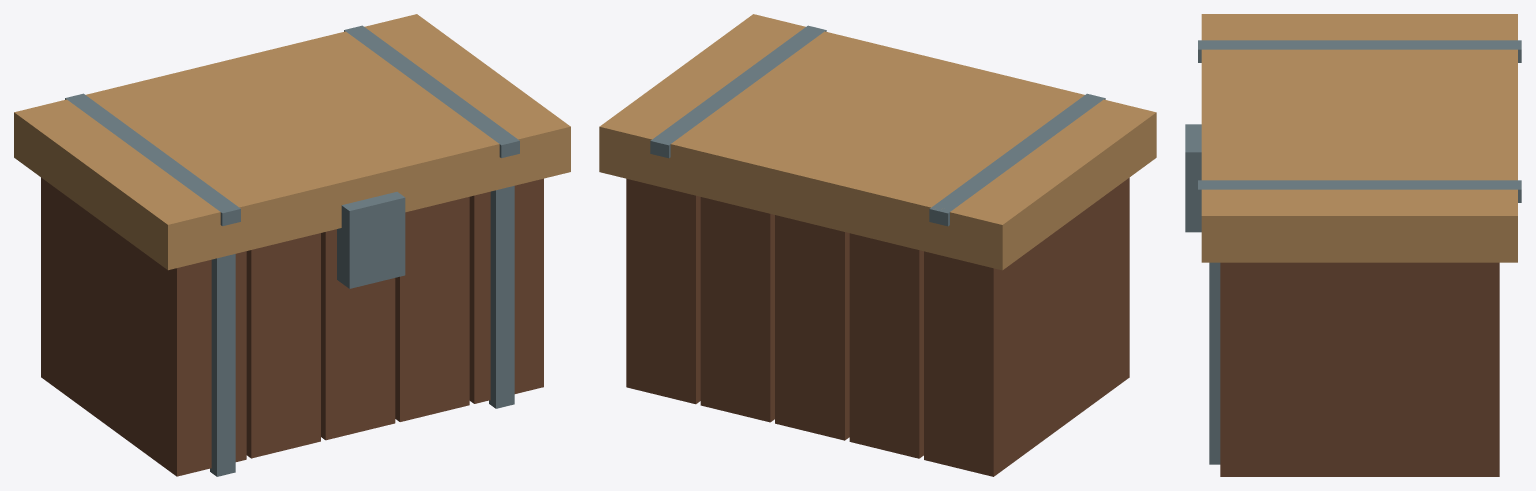
The model's file is storage_chest.glb.
The picture shows the model from 3 angles, left to right: view 1: azimuth 30°, elevation 25°; view 2: azimuth 150°, elevation 25°; view 3: azimuth 270°, elevation 25°; orthographic projection. The views are drawn at different scales.
Parts seen in each view (by area): view 1: storage_chest; view 2: storage_chest; view 3: storage_chest.
Part boxes in pixels (box(x1,y1,x2,y2)): storage_chest: box(14, 14, 570, 476); storage_chest: box(599, 14, 1156, 476); storage_chest: box(1185, 14, 1521, 476).
Size of the model in its own units: 1.3 by 0.825 by 0.915.
